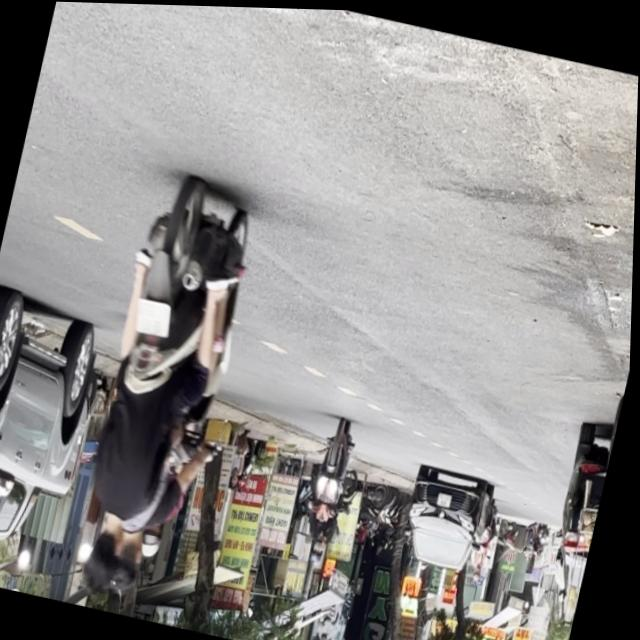helmet: (140, 523, 166, 561)
licenseplate: (58, 166, 273, 610)
motorcyclist: (79, 509, 134, 596), (109, 532, 150, 597)
nohelmet: (134, 299, 173, 339)
